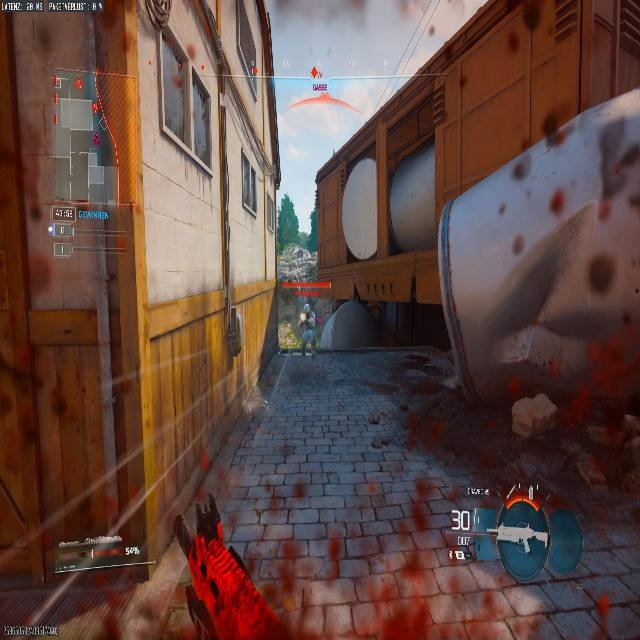player: (297, 300, 318, 358)
